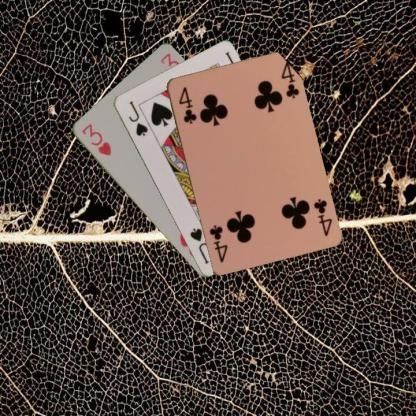3h: (79, 121, 112, 157)
4c: (310, 196, 334, 237), (176, 84, 198, 125)
Js: (125, 98, 149, 138)
